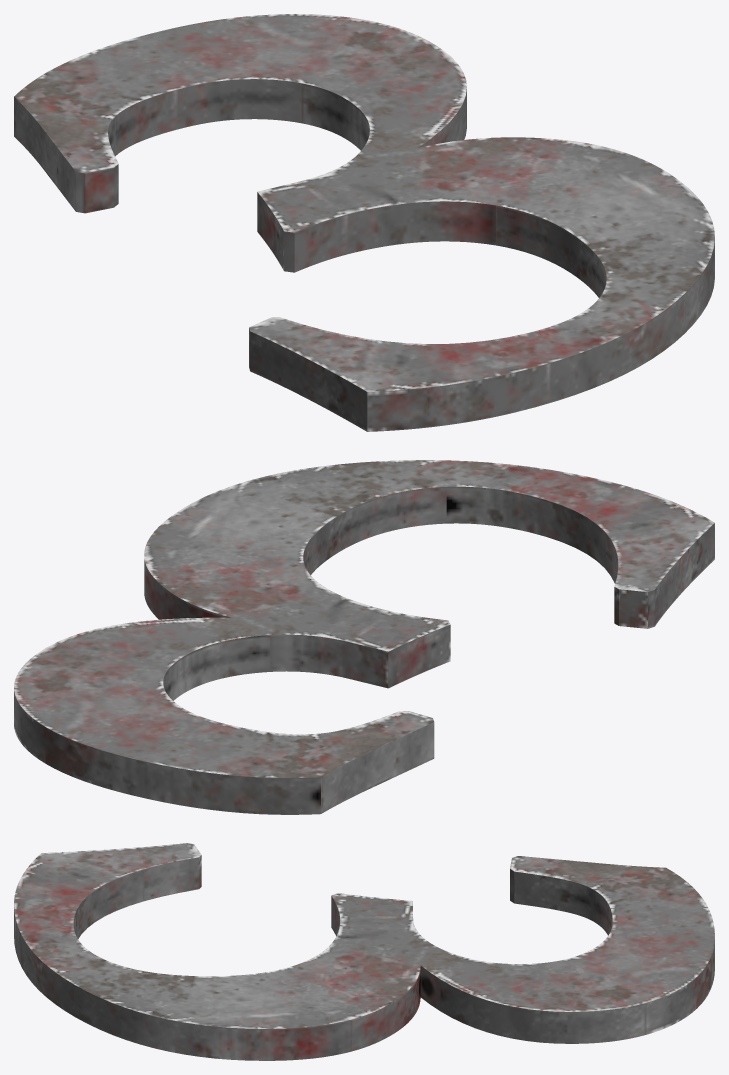
The model's file is counter_num_3.fbx.
3 views of the same model, one above another, from view 1: azimuth 30°, elevation 25°; view 2: azimuth 150°, elevation 25°; view 3: azimuth 270°, elevation 25° (orthographic). The views are drawn at different scales.
Parts seen in each view (by area): view 1: 3; view 2: 3; view 3: 3.
Boxes of the visible parts, <box> form: 3: <box>14,14,714,431</box>; 3: <box>14,460,714,814</box>; 3: <box>14,843,714,1060</box>.
Bounding box in the file's own units: 12.7 × 1.02 × 20.23.
